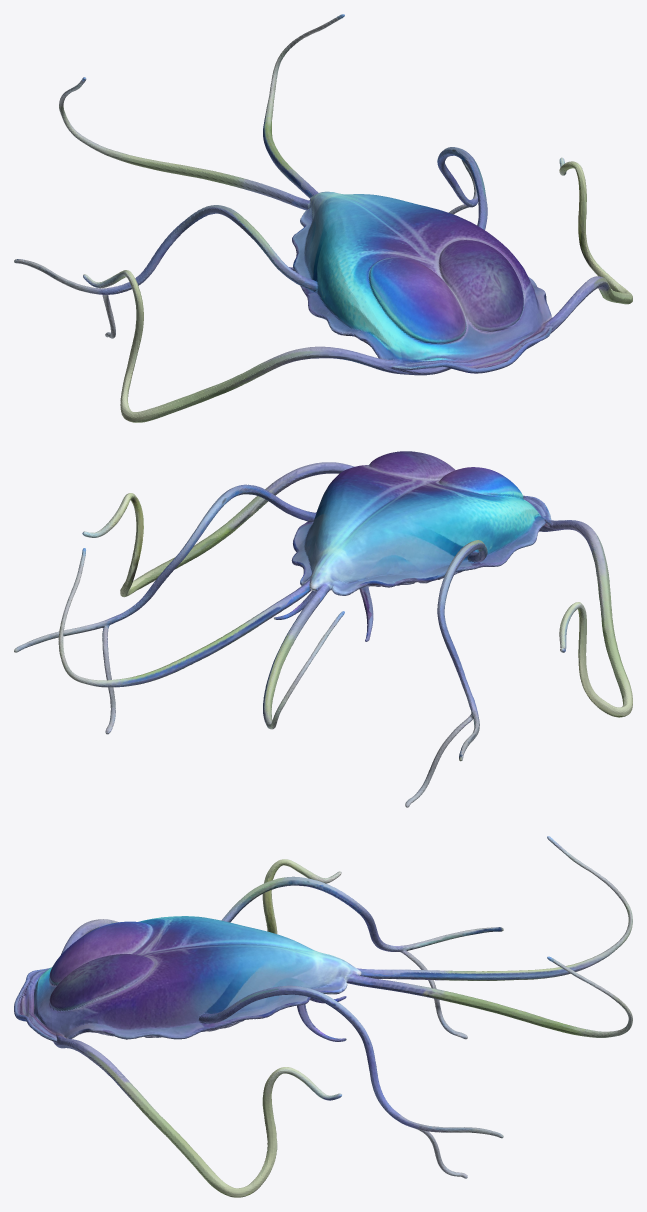
File: GiardiaLamblia3D.glb
3 views of the same model, one above another, from view 1: azimuth 30°, elevation 25°; view 2: azimuth 150°, elevation 25°; view 3: azimuth 270°, elevation 25° (orthographic). The views are drawn at different scales.
Visible parts, largest first — view 1: tripo_node_bda9fe7f-ca77-4807-ab32-ae60ef0d5fad; view 2: tripo_node_bda9fe7f-ca77-4807-ab32-ae60ef0d5fad; view 3: tripo_node_bda9fe7f-ca77-4807-ab32-ae60ef0d5fad.
Boxes of the visible parts, x1,y1,x2,y2 form: tripo_node_bda9fe7f-ca77-4807-ab32-ae60ef0d5fad: (14,14,632,422); tripo_node_bda9fe7f-ca77-4807-ab32-ae60ef0d5fad: (14,451,632,807); tripo_node_bda9fe7f-ca77-4807-ab32-ae60ef0d5fad: (14,836,632,1197).
Size of the model in its own units: 0.8956 by 0.3788 by 1.
1 material, 1 textured.
